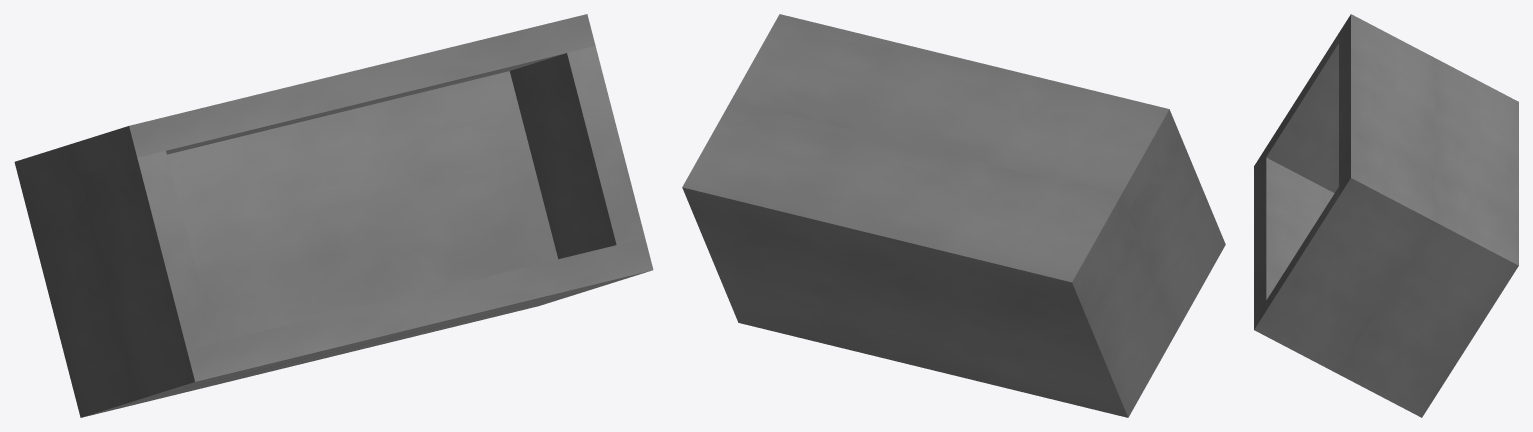
The model's file is dc_metro_arch_a1.obj.
3 renders of one model, left to right at view 1: azimuth 30°, elevation 25°; view 2: azimuth 150°, elevation 25°; view 3: azimuth 270°, elevation 25°, orthographic. The views are drawn at different scales.
Visible parts, largest first — view 1: part1; view 2: part1; view 3: part1.
Boxes of the visible parts, <box> form: part1: <box>14,14,653,417</box>; part1: <box>682,14,1225,417</box>; part1: <box>1254,14,1518,417</box>.
Size of the model in its own units: 2 by 1.37 by 1.37.
Materials: 1 (1 with a texture image).
